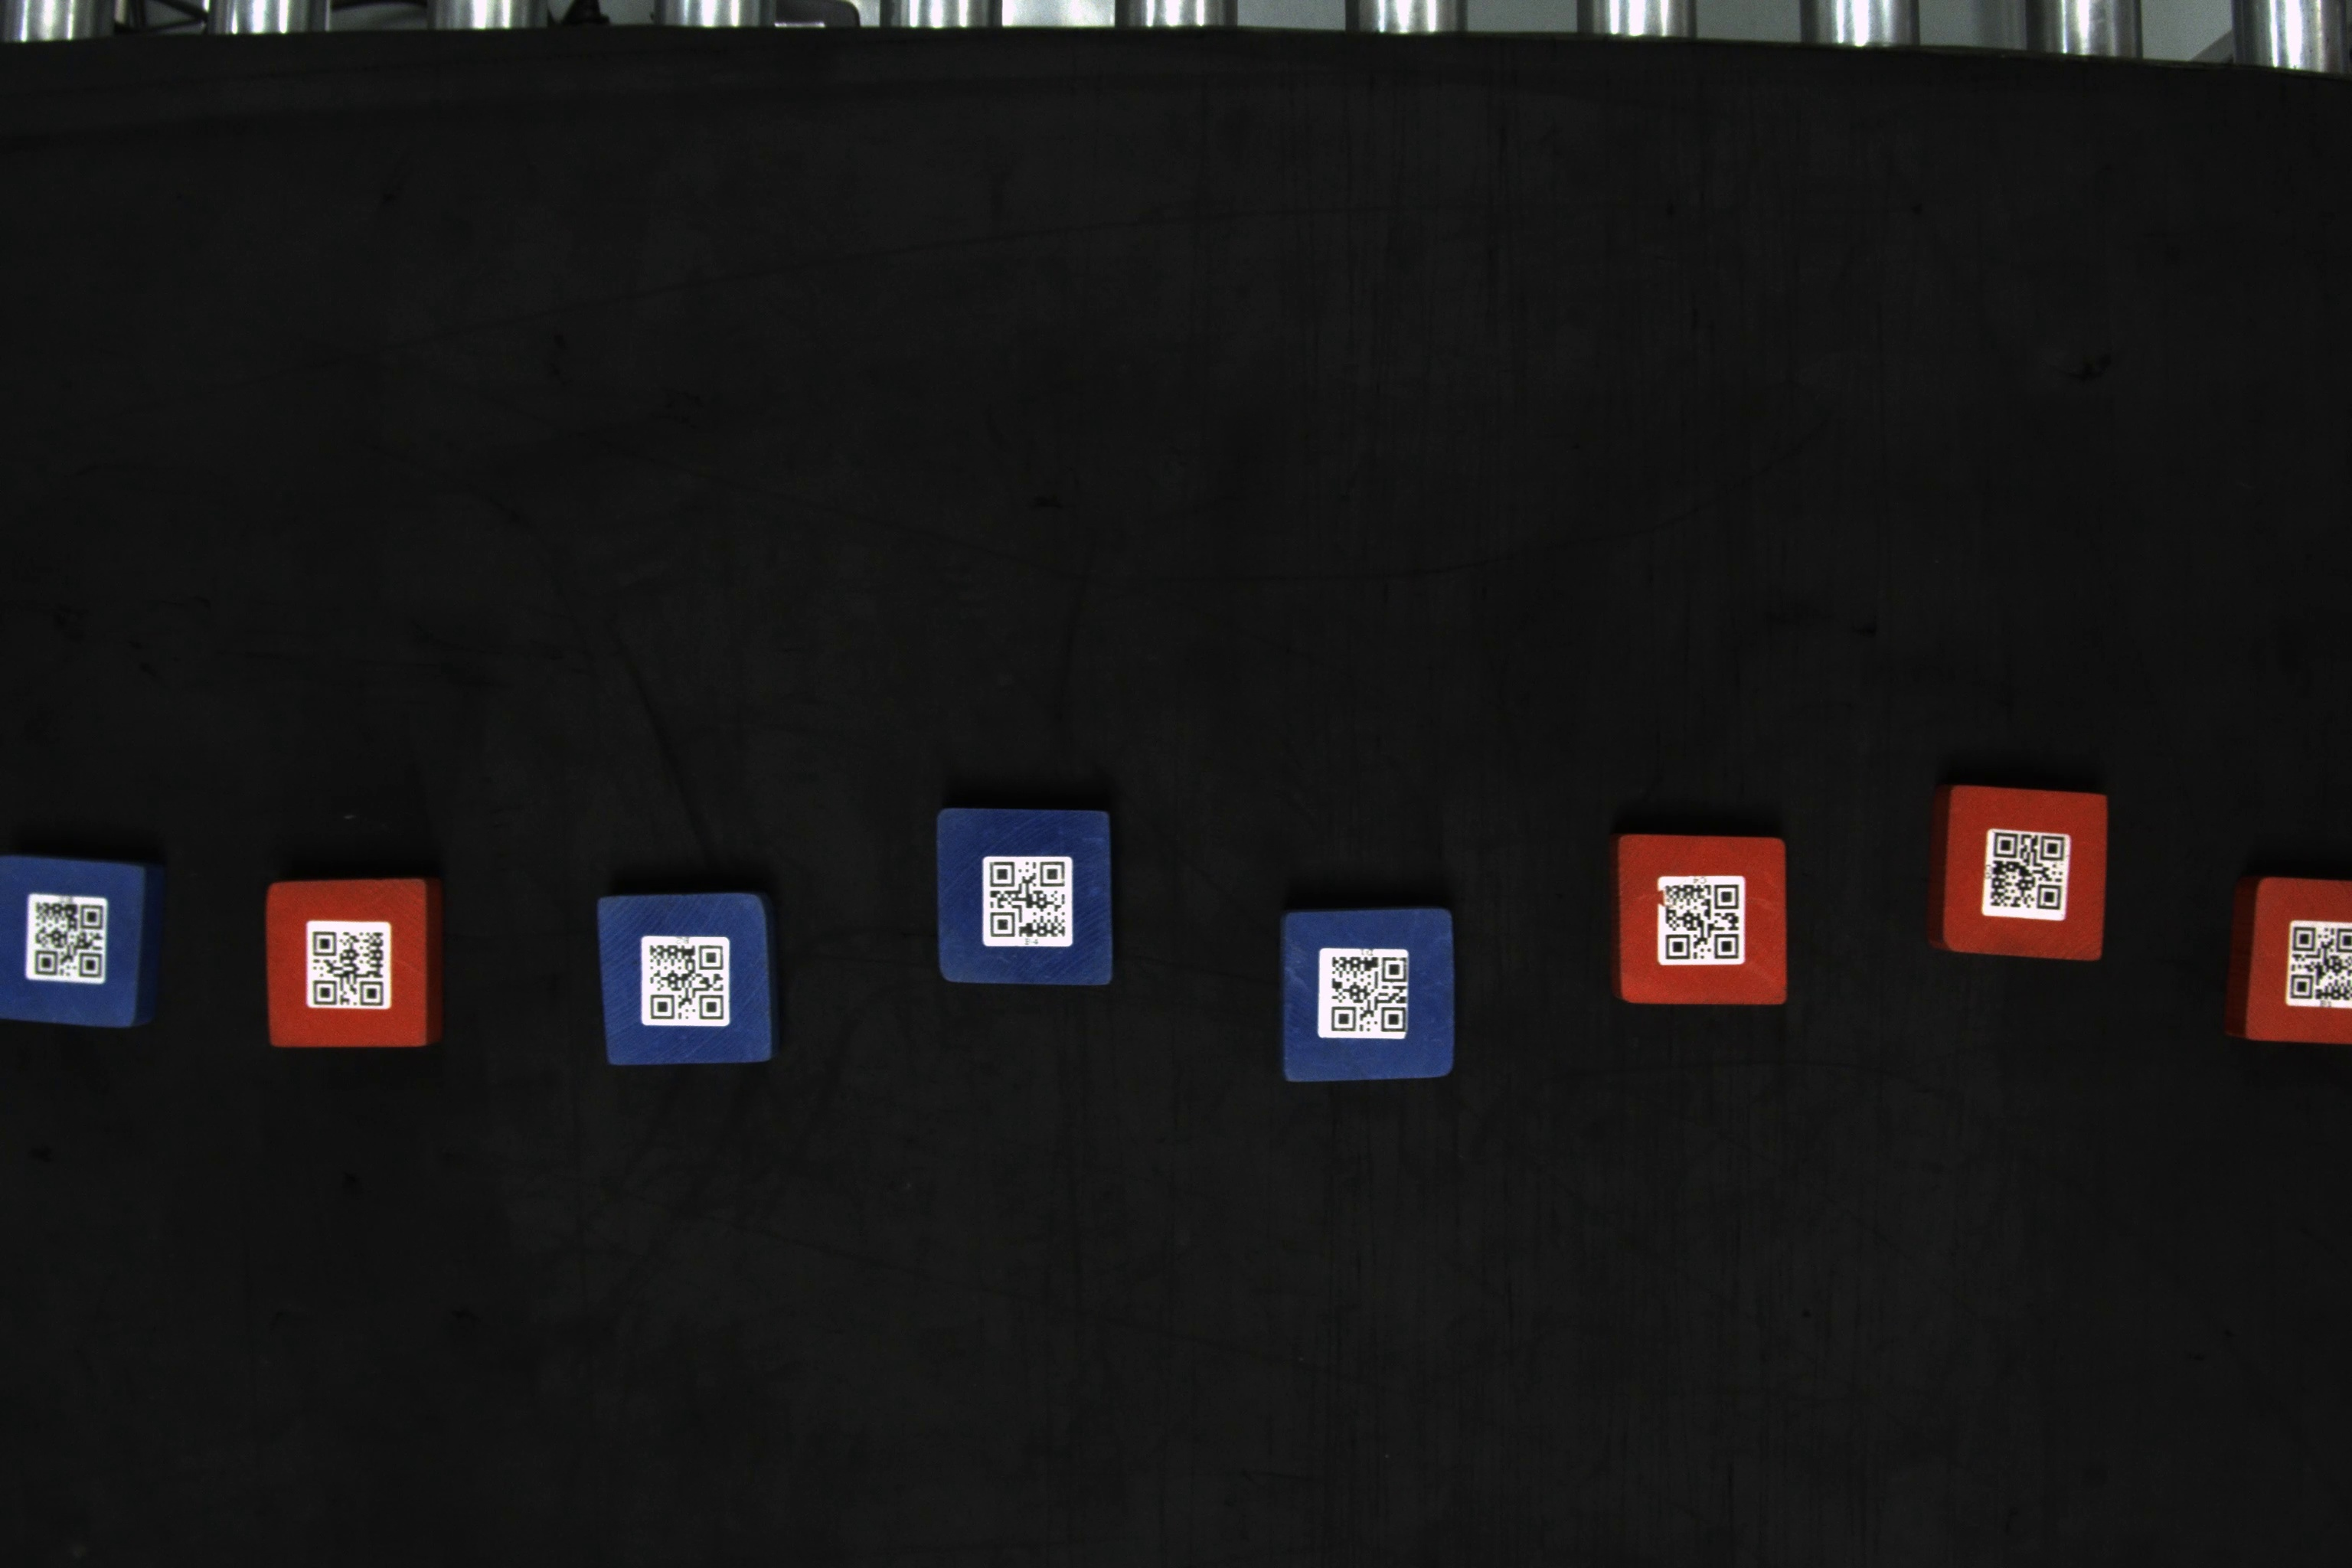wood: (933, 798, 1127, 996), (1605, 822, 1795, 1011), (262, 871, 455, 1057), (590, 885, 779, 1071), (1281, 903, 1463, 1088), (1932, 779, 2110, 962), (0, 849, 170, 1029), (2238, 873, 2347, 1053)
